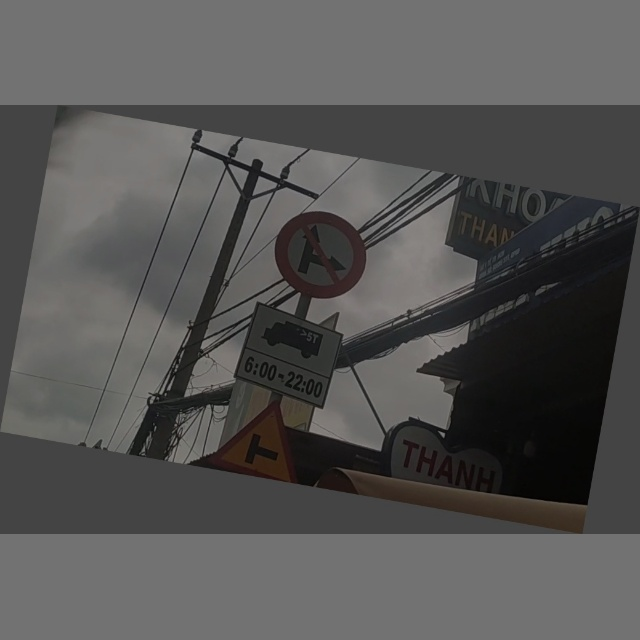P.139: (270, 205, 370, 304)
S.505a*Xe tai: (235, 303, 343, 403)
W.205b: (208, 391, 306, 484)
